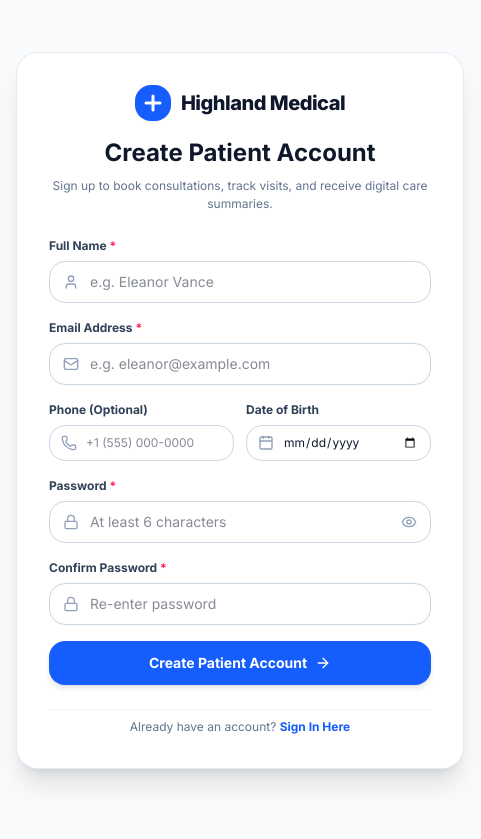
Test: client page flows › sends normalized form values and reports successful account creation
The image size is (481, 839).
Type "  Eleanor Vance  " into the field with placeholder "e.g. Eleanor Vance" at (240, 282), box [49, 260, 431, 302]
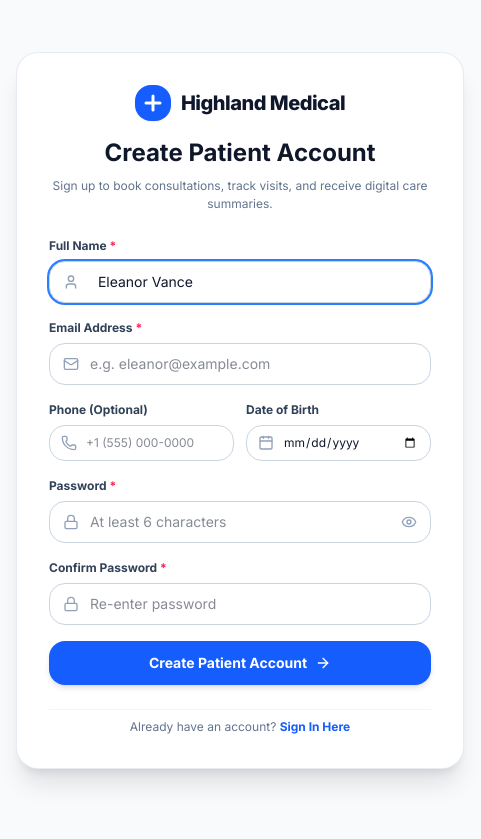
Type "eleanor@example.com" into the field with placeholder "e.g. eleanor@example.com" at (240, 364), box [49, 342, 431, 384]
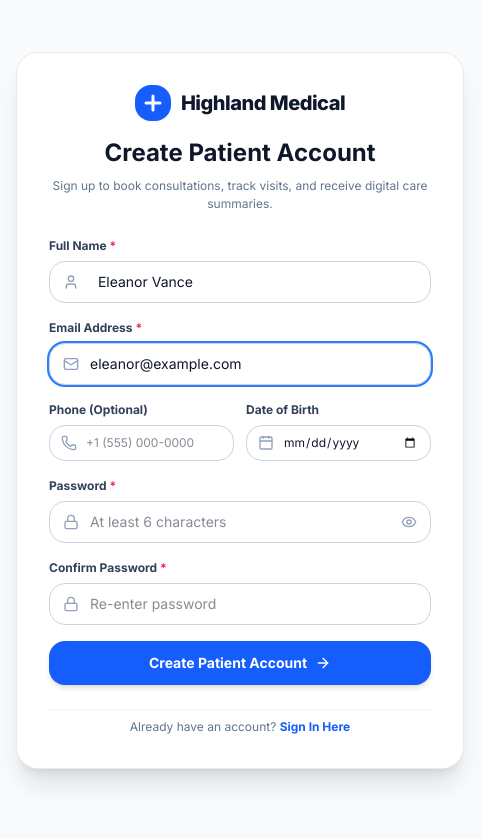
Type "555-0100" into the field with placeholder "+1 (555) 000-0000" at (142, 442), box [49, 424, 234, 460]
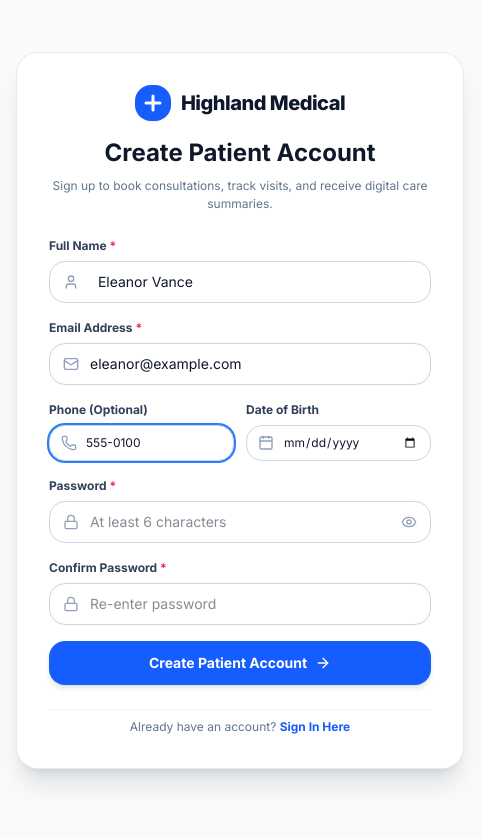
Type "secret1" into the password field with placeholder "At least 6 characters" at (240, 522), box [49, 500, 431, 542]
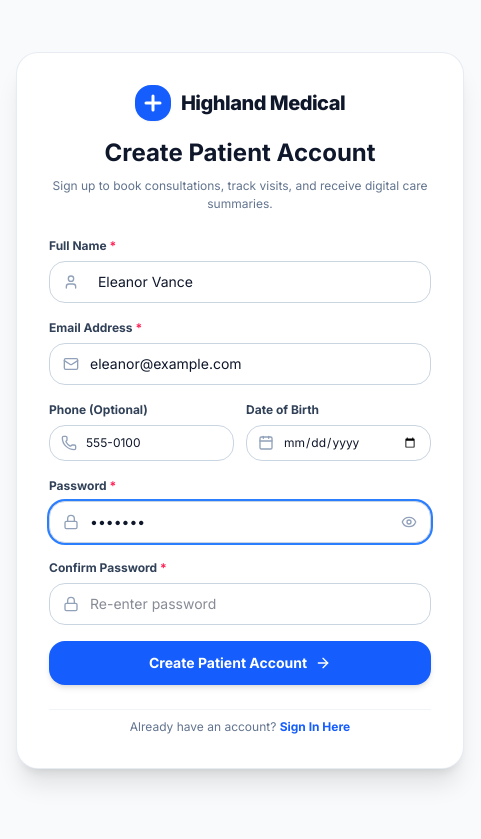
Type "secret1" into the password field with placeholder "Re-enter password" at (240, 604), box [49, 582, 431, 624]
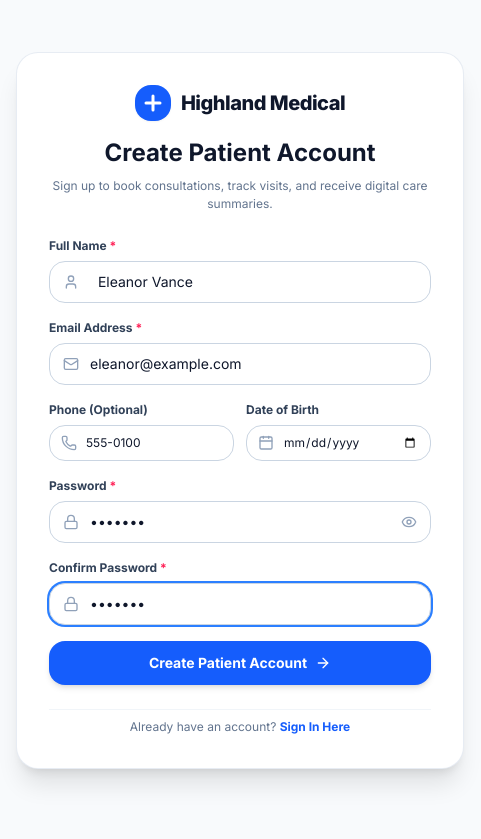
Click the button "Create Patient Account" at (240, 662), box [49, 640, 431, 684]
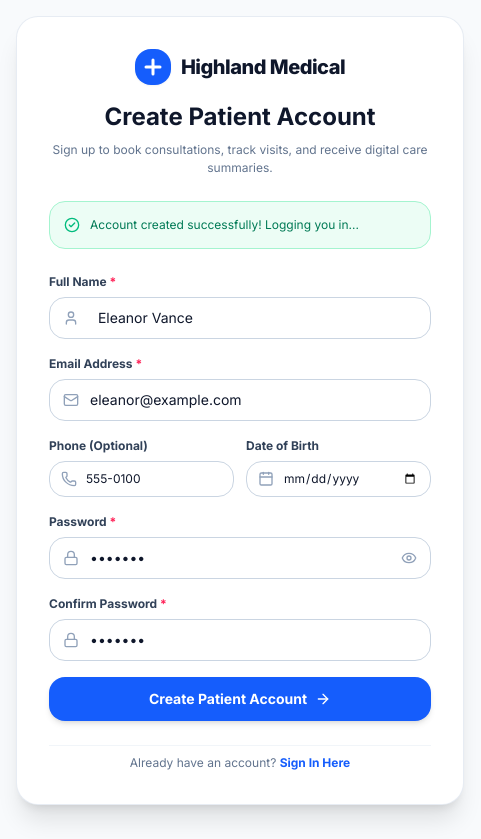
Now the text "Account created successfully! Logging you in..." is shown, box [90, 216, 359, 234]
